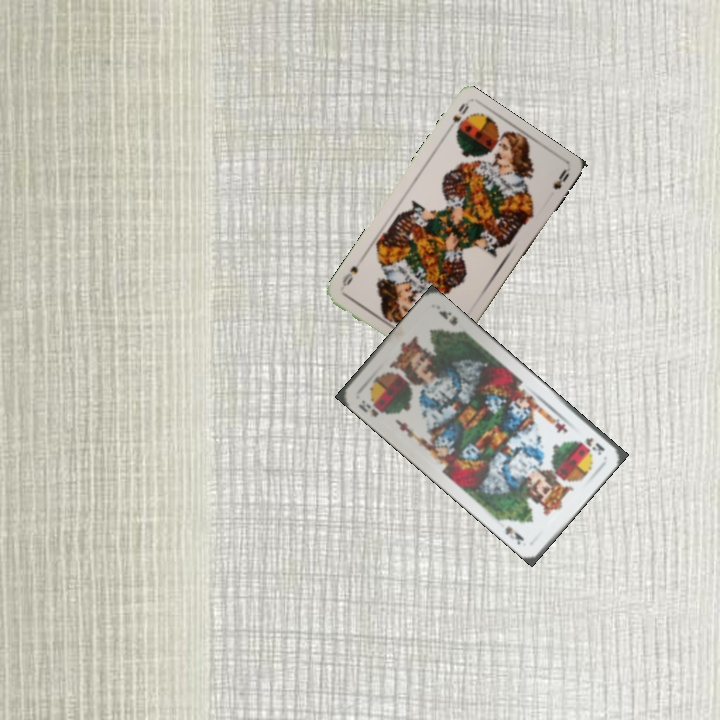SK: (354, 396, 391, 420), (581, 433, 607, 458)
SO: (448, 99, 471, 125)
